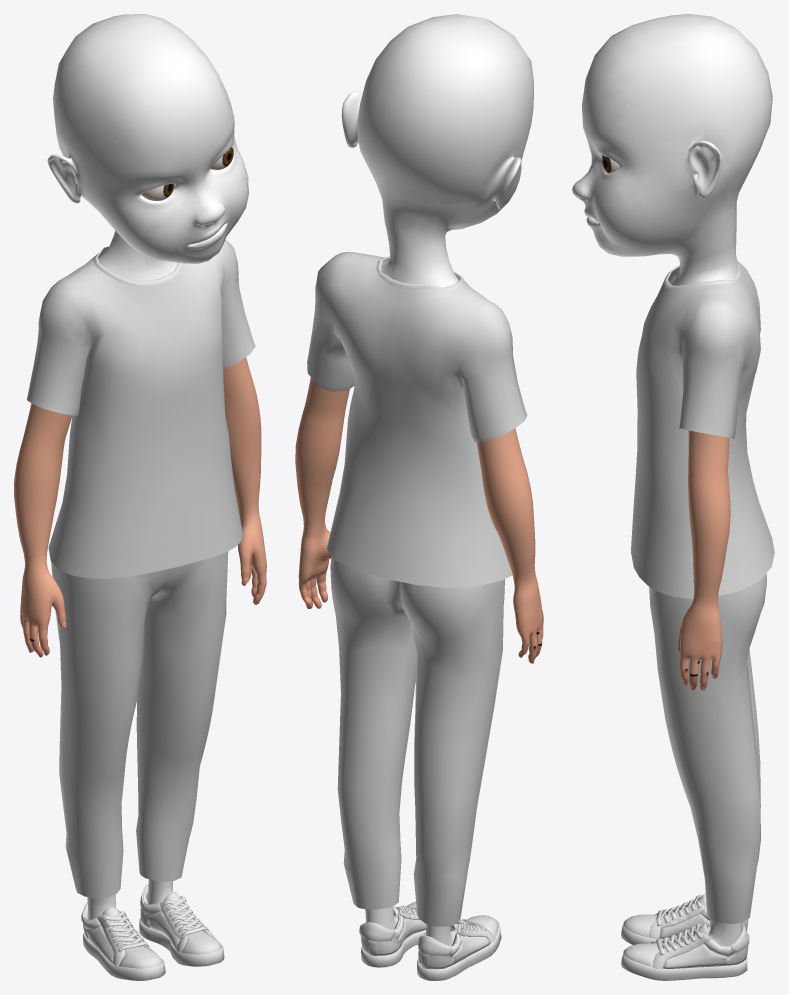
Rendered from Furious2.fbx.
The picture shows the model from 3 angles, left to right: view 1: azimuth 30°, elevation 25°; view 2: azimuth 150°, elevation 25°; view 3: azimuth 270°, elevation 25°; orthographic projection.
Parts seen in each view (by area): view 1: tshirt_low, body_low, pant_low, back_low; view 2: tshirt_low, body_low, pant_low, back_low; view 3: body_low, tshirt_low, pant_low, back_low.
Boxes of the visible parts, left/top/right/bottom form: tshirt_low: left=27, top=240, right=255, bottom=578; body_low: left=14, top=14, right=266, bottom=920; pant_low: left=51, top=551, right=228, bottom=898; back_low: left=81, top=884, right=224, bottom=980; tshirt_low: left=307, top=251, right=527, bottom=587; body_low: left=295, top=14, right=543, bottom=945; pant_low: left=330, top=556, right=504, bottom=926; back_low: left=359, top=901, right=501, bottom=980; body_low: left=572, top=14, right=772, bottom=945; tshirt_low: left=631, top=260, right=774, bottom=599; pant_low: left=649, top=573, right=766, bottom=924; back_low: left=621, top=894, right=749, bottom=980.
Size of the model in its own units: 18.82 by 70.51 by 14.
